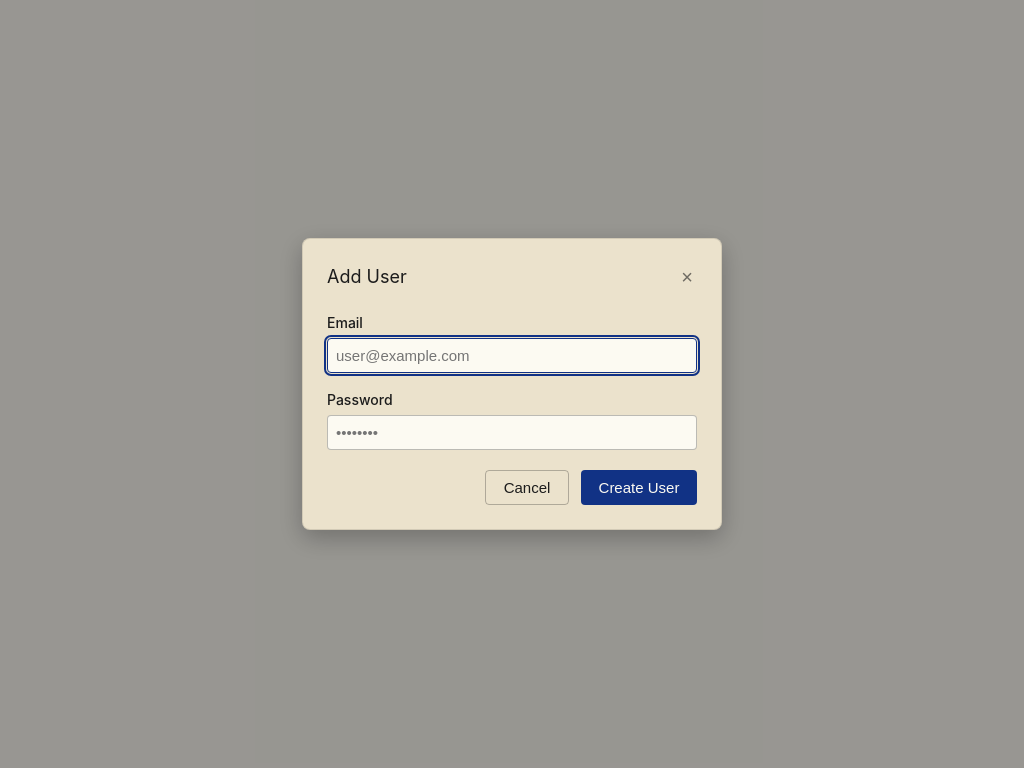
Scenario: AddUserForm › shows "already taken" error when API returns 409
Type "taken@example.com" into the field labelled "Email" at (512, 355), box [327,338,697,373]
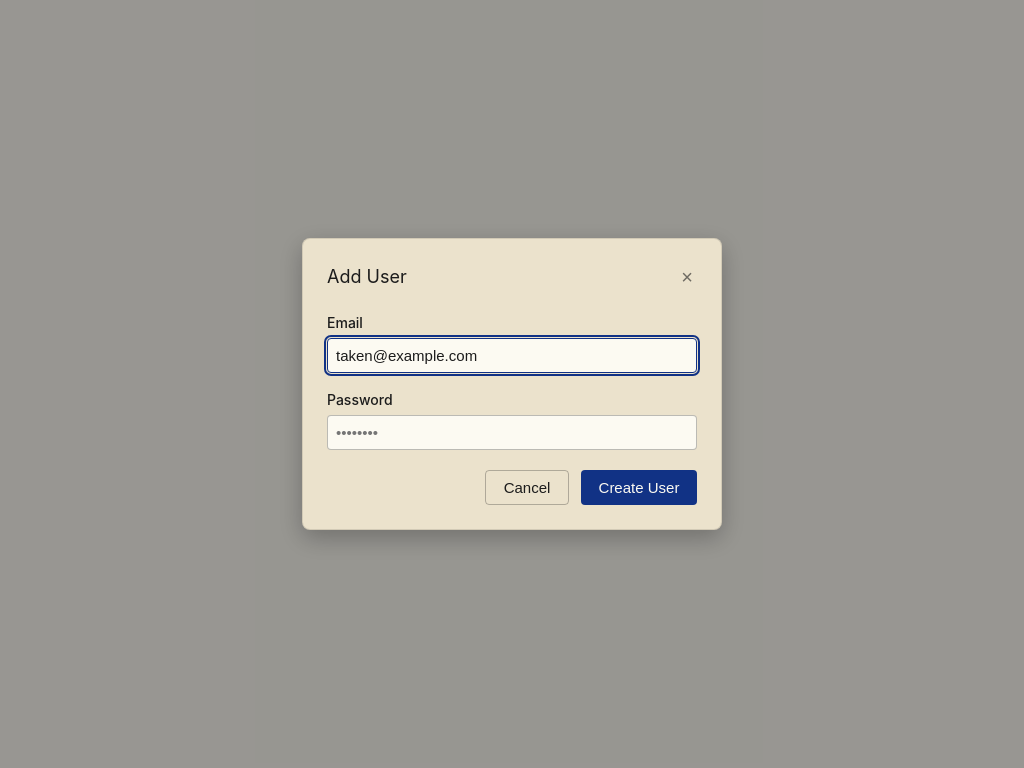
Type "strongpassword123" into the password field labelled "Password" at (512, 433), box [327,415,697,450]
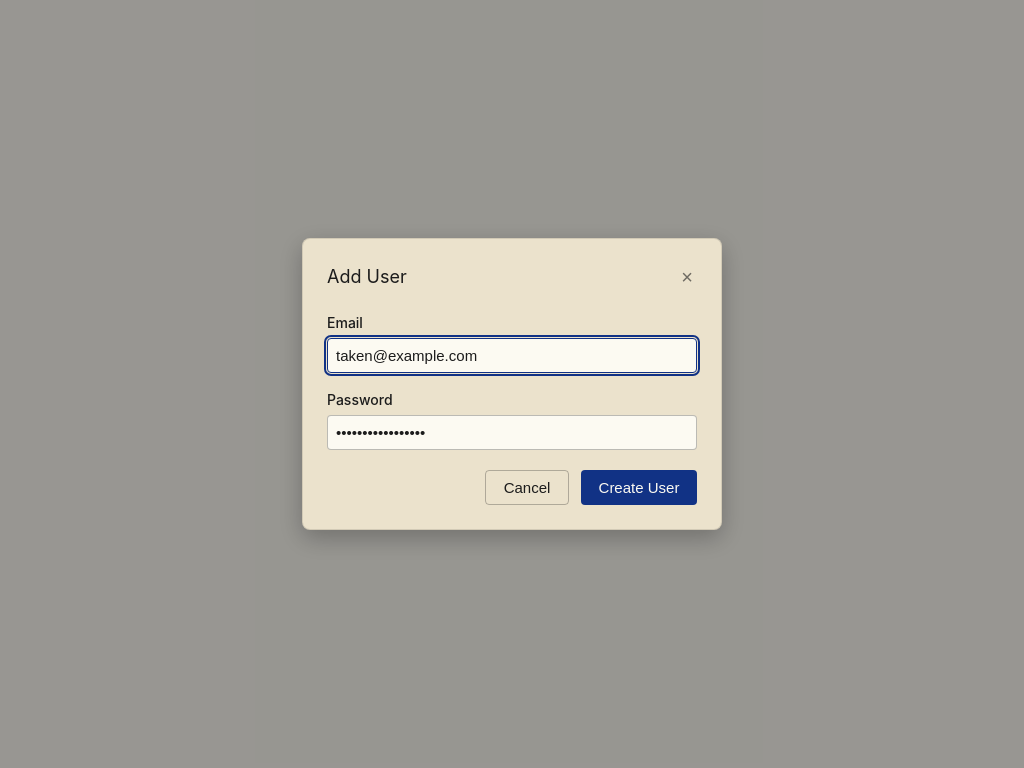
Submit the form, box [327,312,697,505]
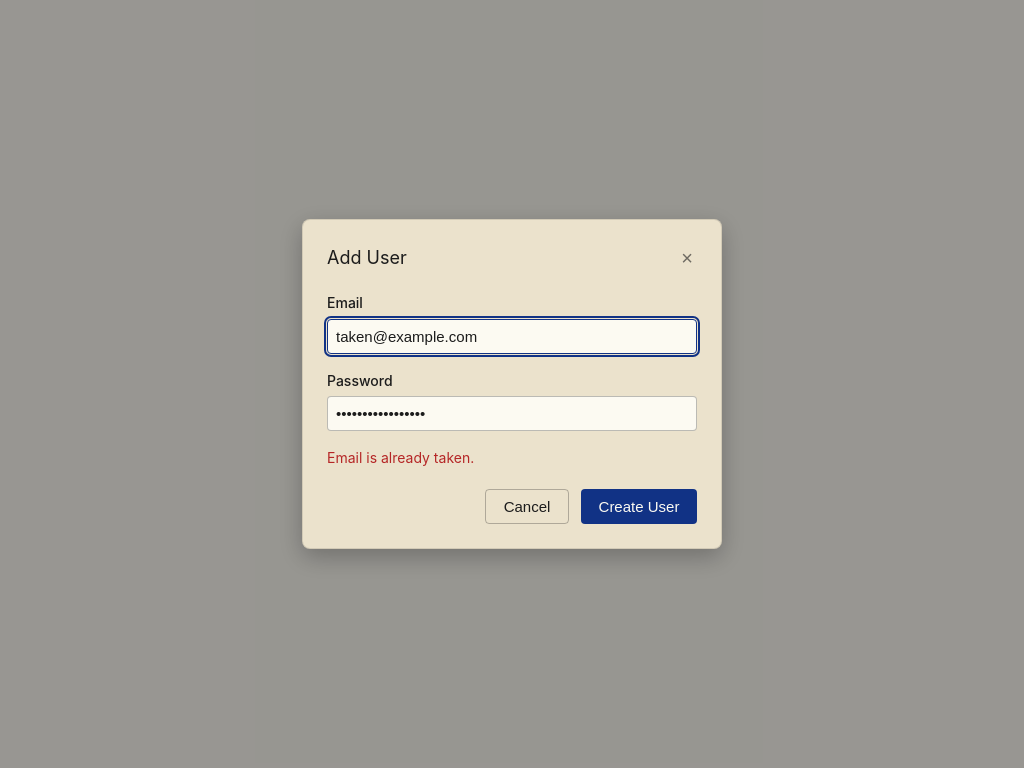
Result: the message "Email is already taken." is shown at [327,449,474,466]
